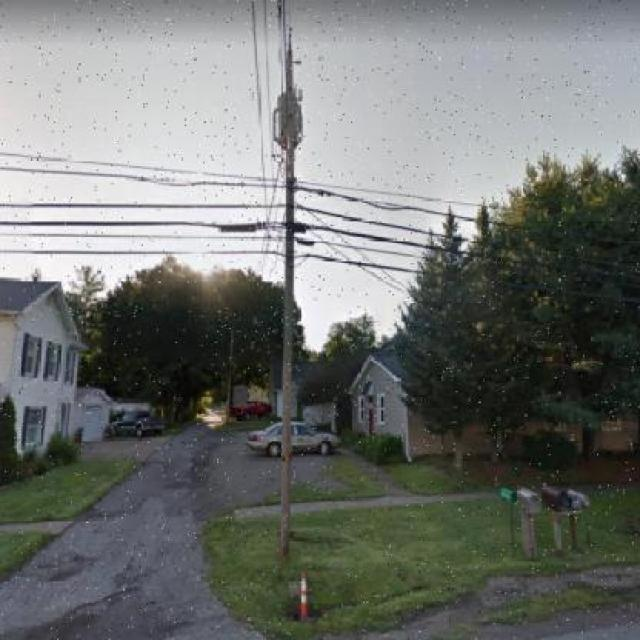pole: (198, 14, 378, 563)
